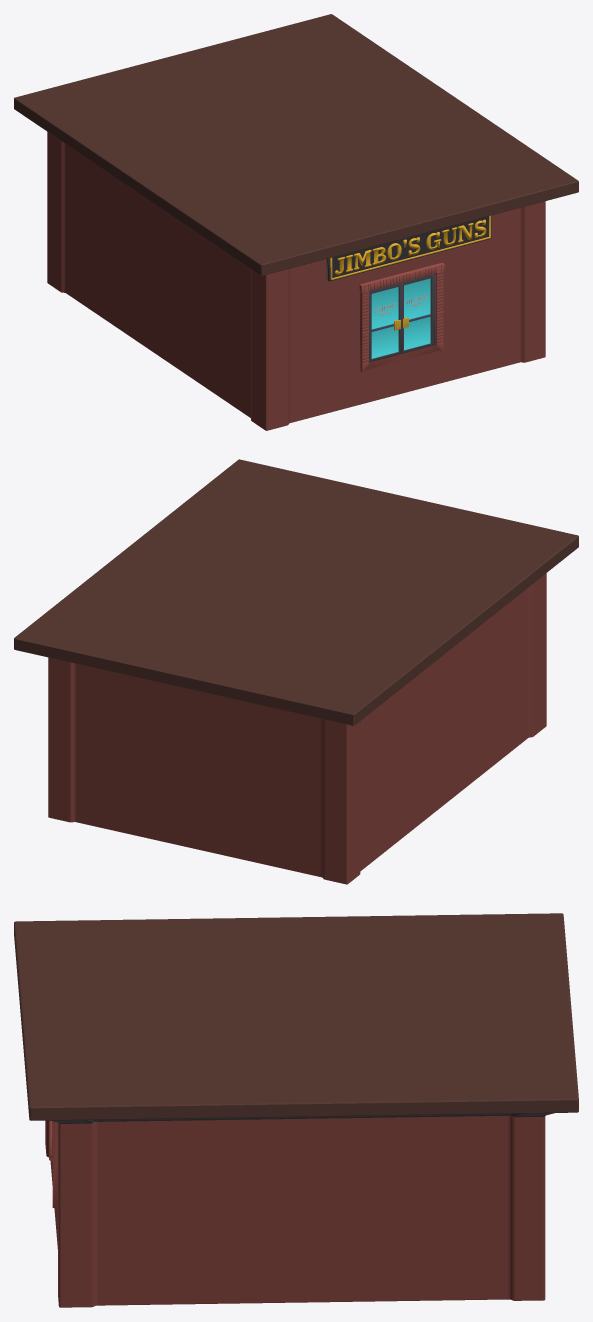
Rendered from jimbosgunshop_compressed.glb.
3 views of the same model, one above another, from view 1: azimuth 30°, elevation 25°; view 2: azimuth 150°, elevation 25°; view 3: azimuth 270°, elevation 25° (orthographic). The views are drawn at different scales.
Parts seen in each view (by area): view 1: Cube.523, Cube.525, Cube.524; view 2: Cube.523; view 3: Cube.523, Cube.525.
Boxes of the visible parts, bbox=[...] form: Cube.523: bbox=[14, 14, 578, 430]; Cube.525: bbox=[359, 263, 444, 372]; Cube.524: bbox=[326, 215, 491, 362]; Cube.523: bbox=[14, 459, 578, 884]; Cube.523: bbox=[14, 913, 578, 1307]; Cube.525: bbox=[49, 1120, 57, 1207].
Bounding box in the file's own units: 2.81 × 1.43 × 3.45.
